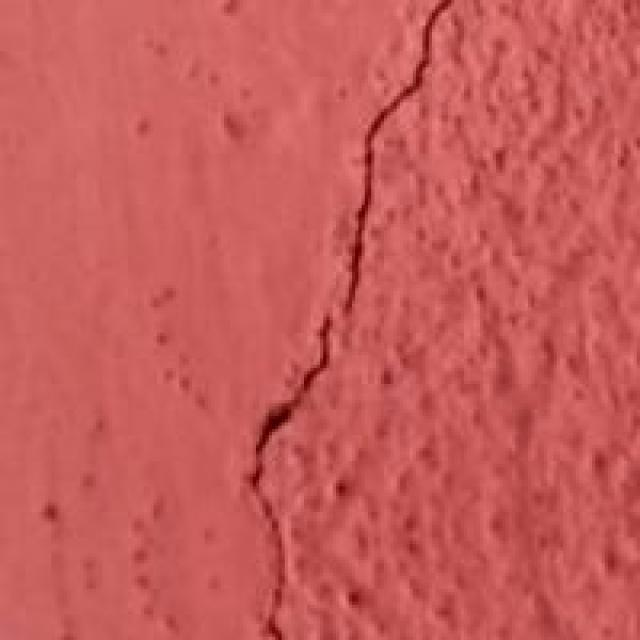crack: (214, 0, 456, 640)
